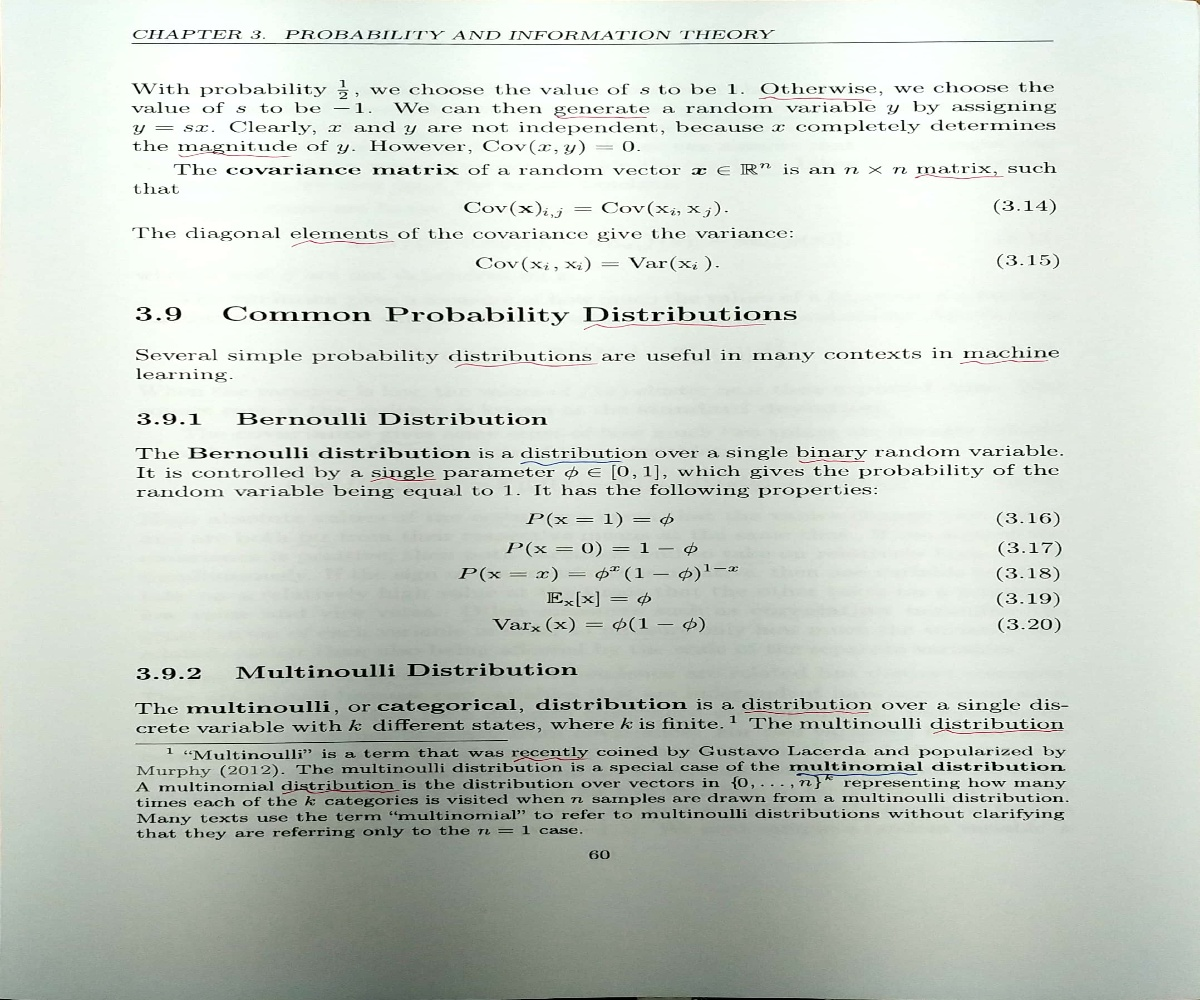underline: (576, 320, 776, 331), (446, 357, 607, 370), (173, 147, 297, 163), (928, 725, 1069, 739), (741, 707, 874, 719), (751, 93, 881, 105), (276, 787, 404, 799), (791, 769, 923, 779), (513, 459, 631, 470), (286, 237, 402, 248), (910, 168, 1008, 181), (955, 358, 1056, 369), (364, 475, 445, 488), (508, 753, 591, 765), (549, 112, 659, 121), (794, 457, 872, 467)
